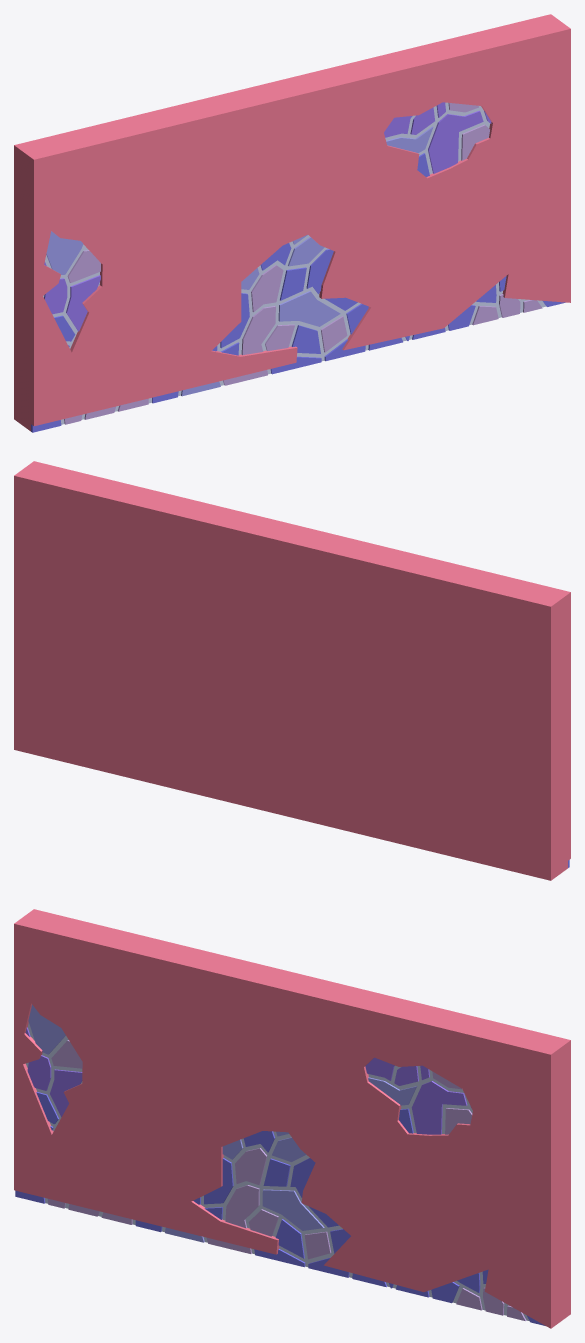
Rendered from MOR_TEP_PAREDES_01_ROJO_MITAD.fbx.
3 renders of one model, top to bottom at view 1: azimuth 30°, elevation 25°; view 2: azimuth 150°, elevation 25°; view 3: azimuth 330°, elevation 25°, orthographic.
Parts seen in each view (by area): view 1: MOR_TEP_PAREDES_01_ROJO_MITAD_LOD0; view 2: MOR_TEP_PAREDES_01_ROJO_MITAD_LOD0; view 3: MOR_TEP_PAREDES_01_ROJO_MITAD_LOD0.
Boxes of the visible parts, <box> form: MOR_TEP_PAREDES_01_ROJO_MITAD_LOD0: <box>14,14,570,432</box>; MOR_TEP_PAREDES_01_ROJO_MITAD_LOD0: <box>14,461,570,880</box>; MOR_TEP_PAREDES_01_ROJO_MITAD_LOD0: <box>14,909,570,1328</box>.
Size of what is drawn, in the model's own units: 393 by 192 by 25.36.
